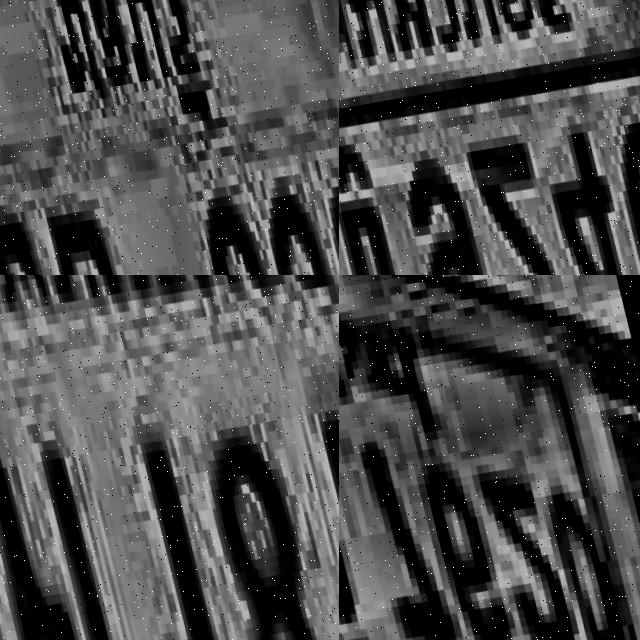license-plate: (0, 275, 339, 640), (339, 275, 640, 640), (0, 0, 339, 275), (339, 0, 640, 275)
